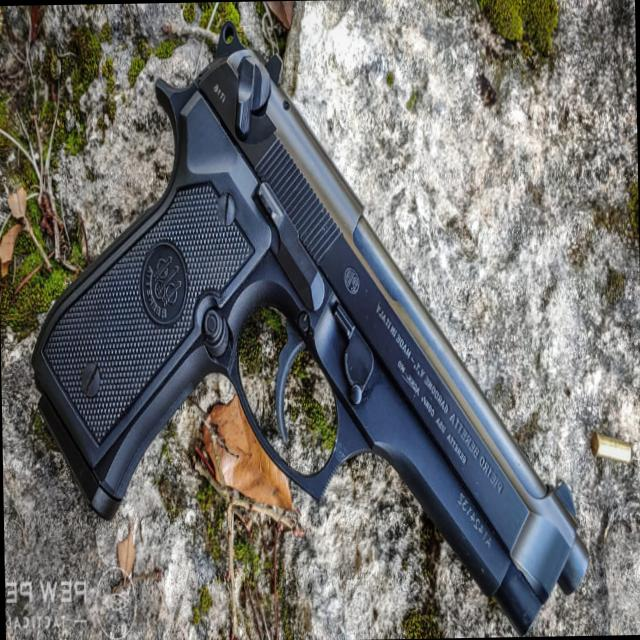Gun: (23, 20, 592, 640)
